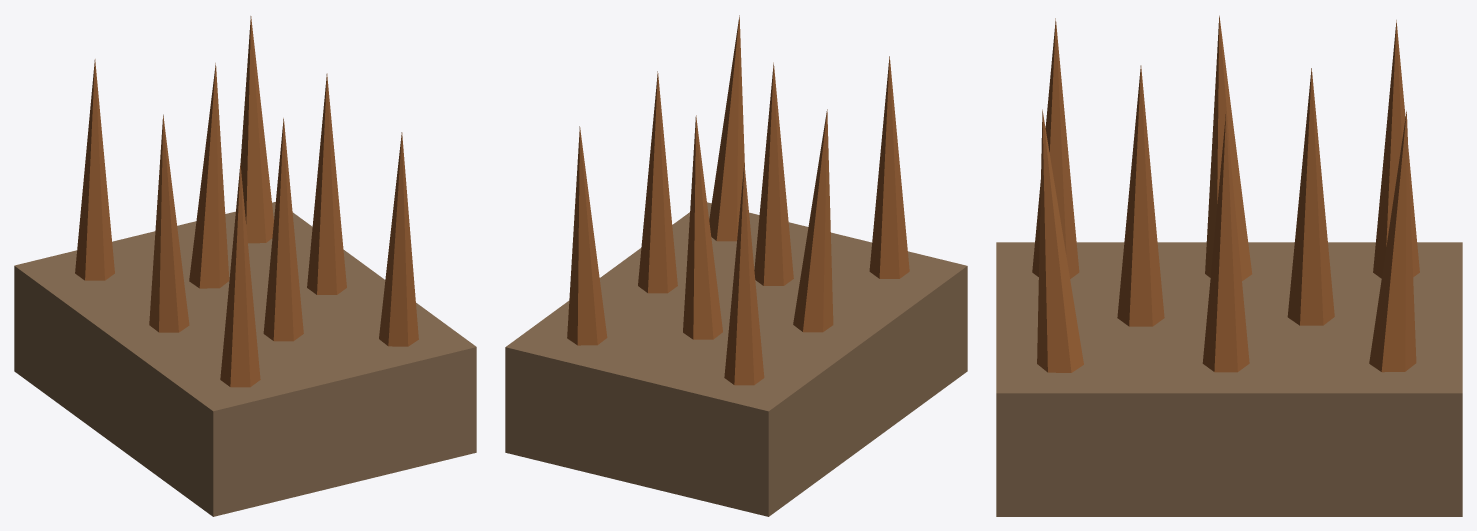
File: Mesh_SpikeSmall.glb
The picture shows the model from 3 angles, left to right: view 1: azimuth 30°, elevation 25°; view 2: azimuth 150°, elevation 25°; view 3: azimuth 270°, elevation 25°; orthographic projection. The views are drawn at different scales.
Visible parts, largest first — view 1: Cube.077; view 2: Cube.077; view 3: Cube.077.
Part boxes in pixels (x1,y1,x2,y2): Cube.077: [14, 16, 476, 516]; Cube.077: [505, 15, 967, 516]; Cube.077: [996, 15, 1462, 516].
Size of the model in its own units: 2.71 by 3.17 by 3.54.
